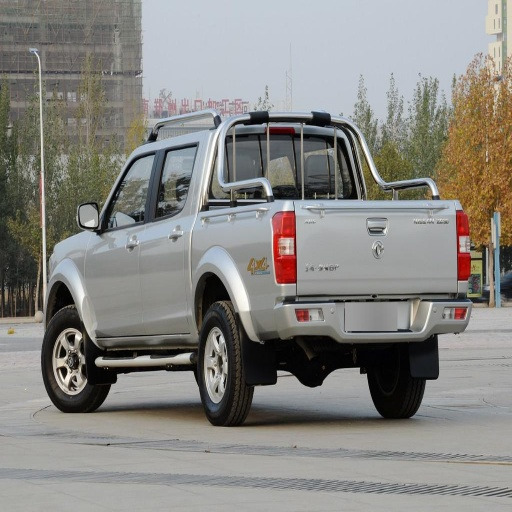back_bumper: (275, 297, 469, 343)
back_left_door: (140, 146, 192, 333)
back_right_door: (212, 127, 258, 193)
trunk: (193, 202, 457, 338)
